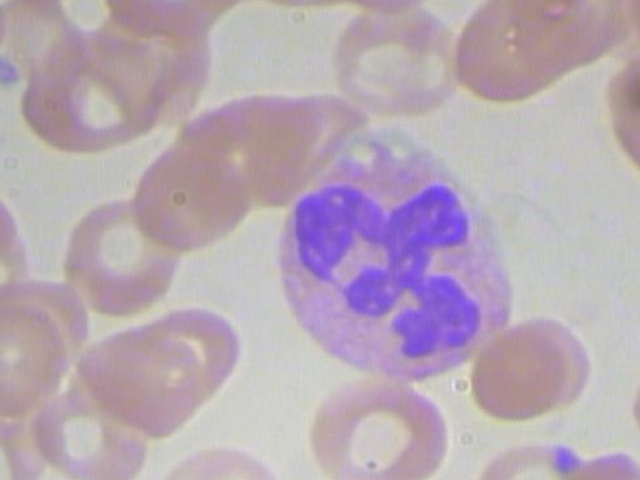RBC: (10, 27, 173, 157), (323, 0, 463, 126), (298, 375, 454, 480), (57, 193, 182, 324), (127, 127, 252, 258), (75, 322, 213, 437), (470, 320, 572, 422), (32, 396, 151, 480), (0, 297, 67, 420), (597, 53, 640, 193), (471, 432, 595, 480), (157, 442, 289, 480), (0, 387, 45, 480), (566, 448, 640, 480), (627, 348, 640, 473)
WBC: (263, 116, 524, 394)
